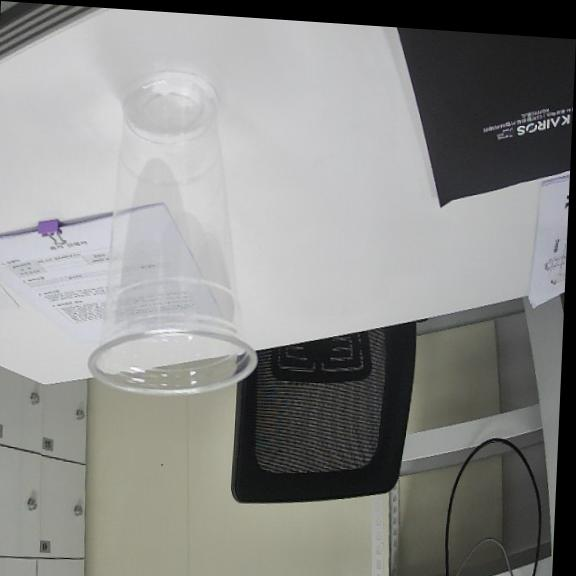Plastik: (88, 72, 256, 392)
